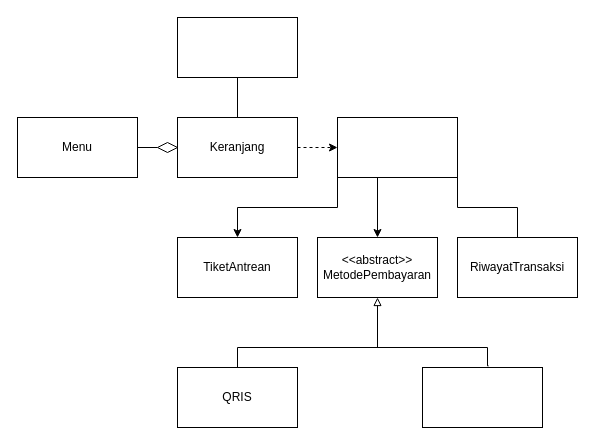
Some shapes in this 595 by 445 pixel diagram are drawn without their labels. The shapes that lost their labels are listed below. From the top down, each one's centre as x and y in pixels, then its label:
the point at 237,47: Pelanggan
the point at 397,147: Pesanan
the point at 482,397: VirtualAccount
